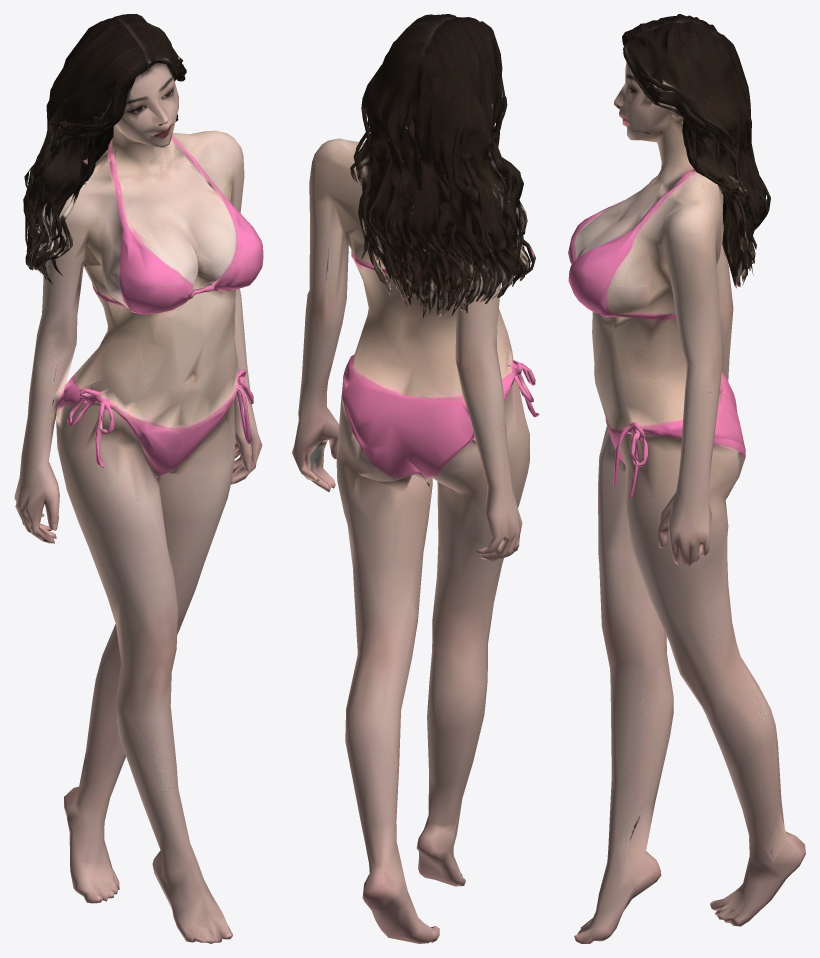
The model's file is char5_swim_woman.glb.
3 views of the same model, side by side, from view 1: azimuth 30°, elevation 25°; view 2: azimuth 150°, elevation 25°; view 3: azimuth 270°, elevation 25° (orthographic).
Visible parts, largest first — view 1: mesh_node; view 2: mesh_node; view 3: mesh_node.
Part boxes in pixels (box(x1,y1,x2,y2)): mesh_node: box(14, 14, 263, 943); mesh_node: box(292, 14, 539, 943); mesh_node: box(568, 14, 805, 943).
Size of the model in its own units: 0.5107 by 1.9 by 0.4562.
Materials: 1 (1 with a texture image).
